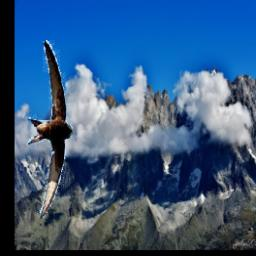Swallow: (28, 41, 74, 220)
